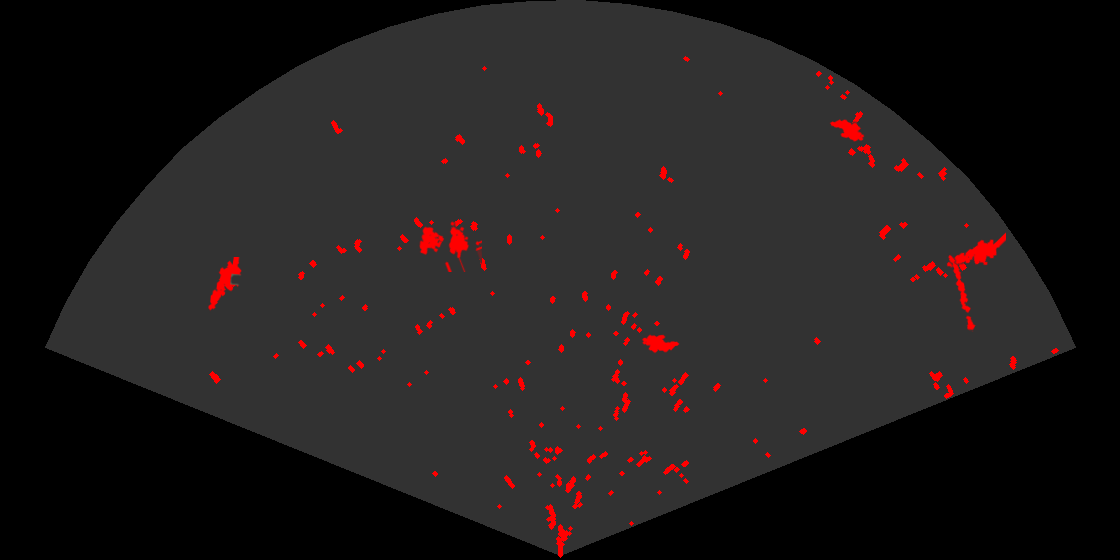AUV: (828, 118, 866, 143), (640, 333, 681, 354)
cage: (418, 220, 482, 272)
chain: (947, 253, 977, 332)
frogman: (945, 231, 1006, 269), (207, 257, 243, 313)
